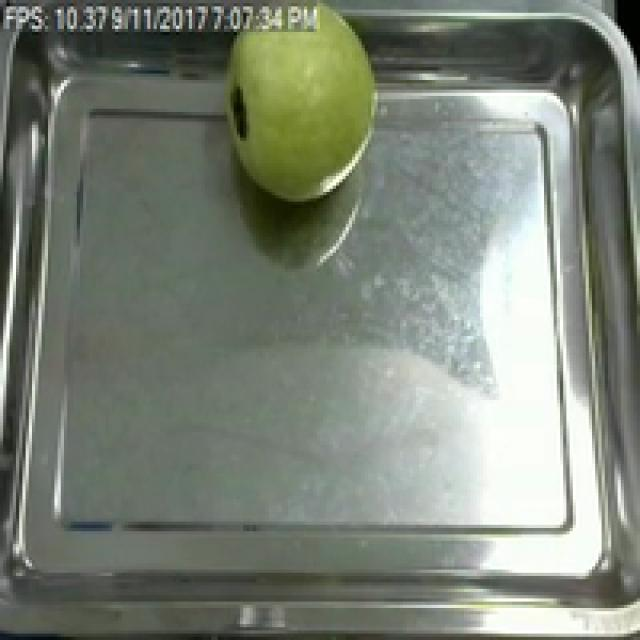Fruit: (215, 0, 388, 211)
